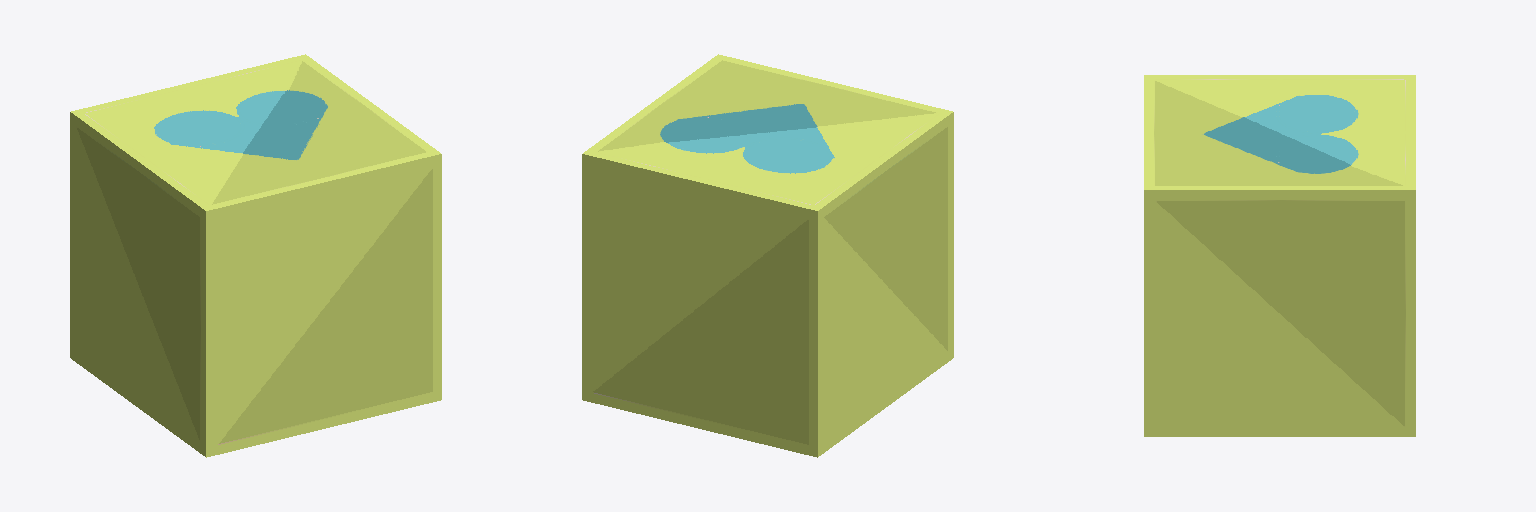
3 renders of one model, left to right at view 1: azimuth 30°, elevation 25°; view 2: azimuth 150°, elevation 25°; view 3: azimuth 270°, elevation 25°, orthographic.
Visible parts, largest first — view 1: Cube; view 2: Cube; view 3: Cube.
Boxes of the visible parts, <box> form: Cube: <box>70,54,441,457</box>; Cube: <box>582,54,953,457</box>; Cube: <box>1144,75,1415,436</box>.
Bounding box in the file's own units: 2 × 2 × 2.
1 materials, 1 textured.